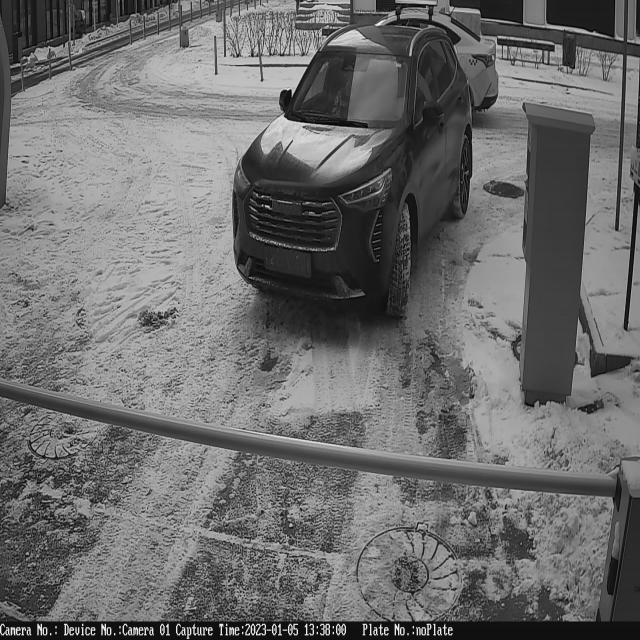car-plate-numbers: (263, 241, 316, 281)
